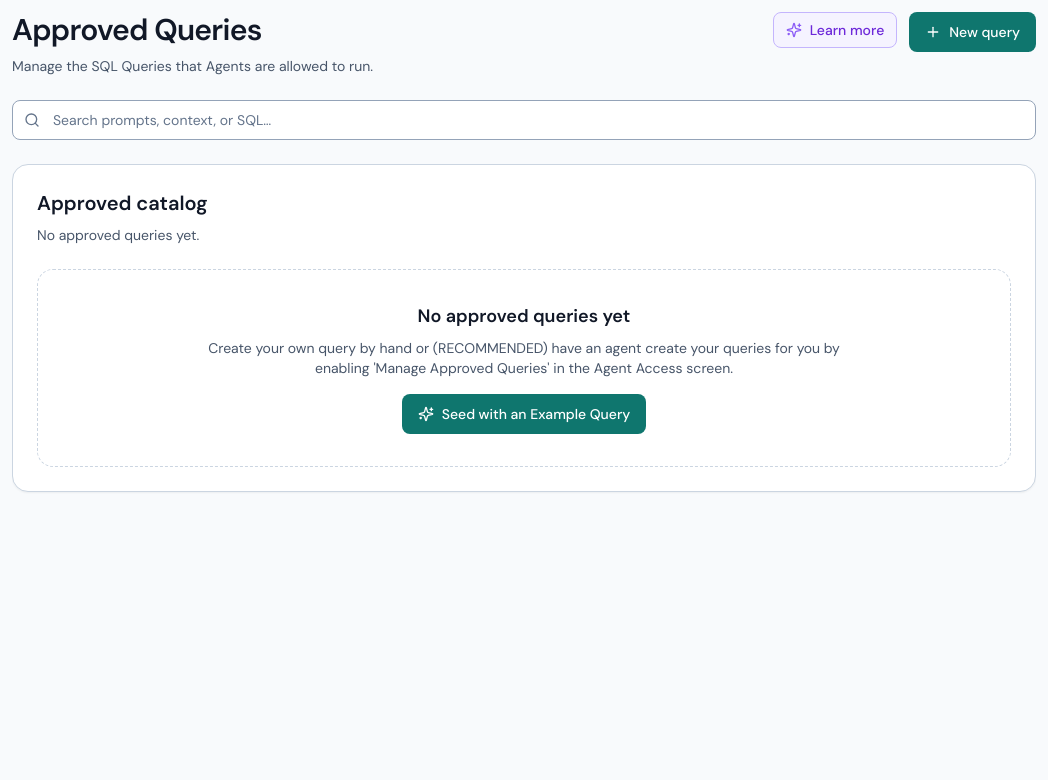
ApprovedQueriesPage › seeds a single example query and lists it on the page
Click the button "Seed with an Example Query" at (524, 414), box [402,394,646,434]
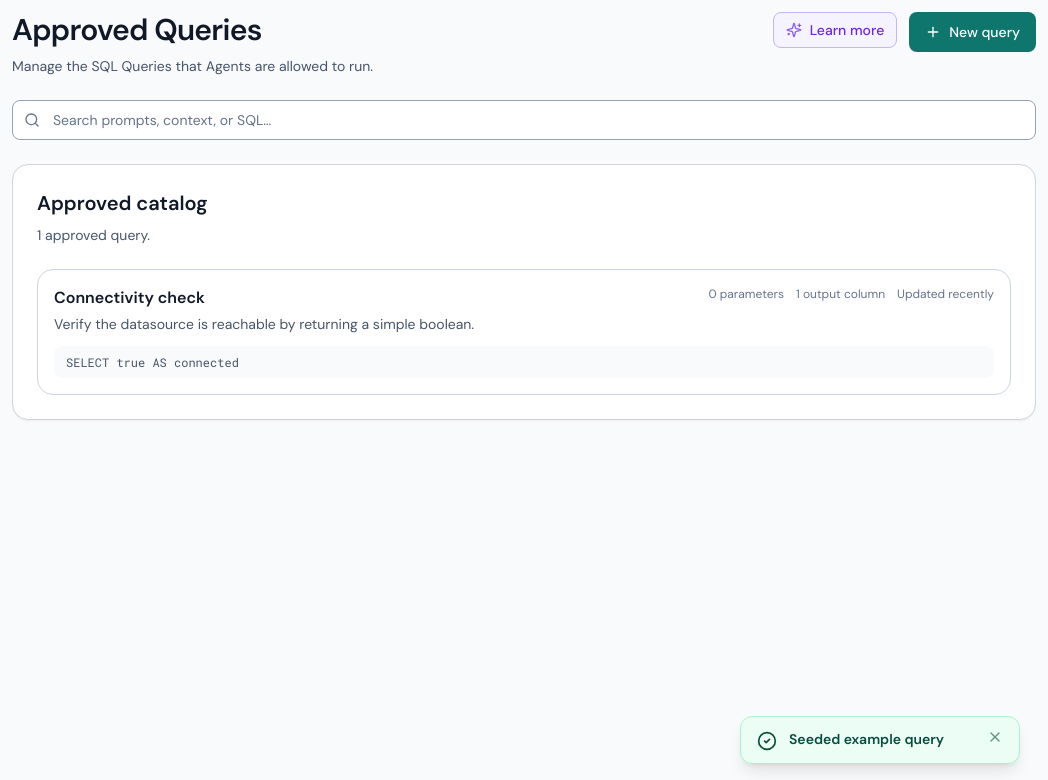
Check: the text "Connectivity check" is shown, box [54,287,205,308]
